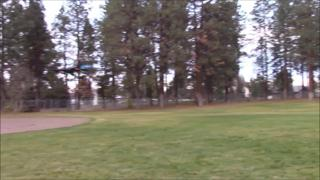UAV: (56, 64, 92, 76)
